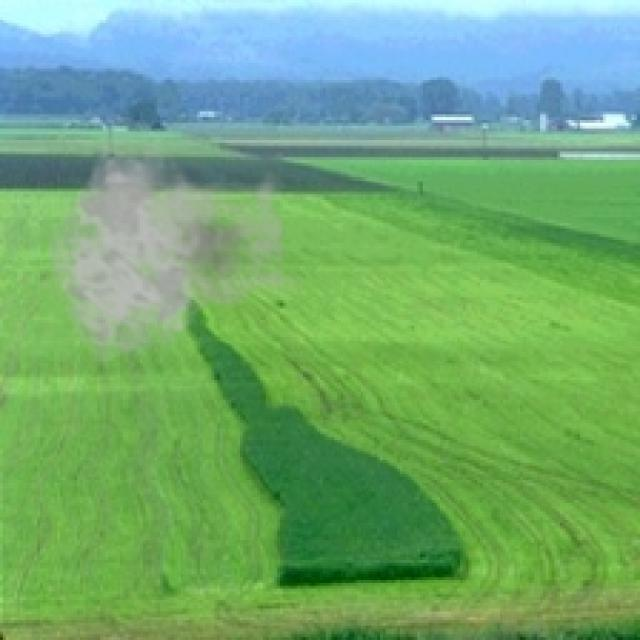Smoke: (46, 132, 306, 366)
